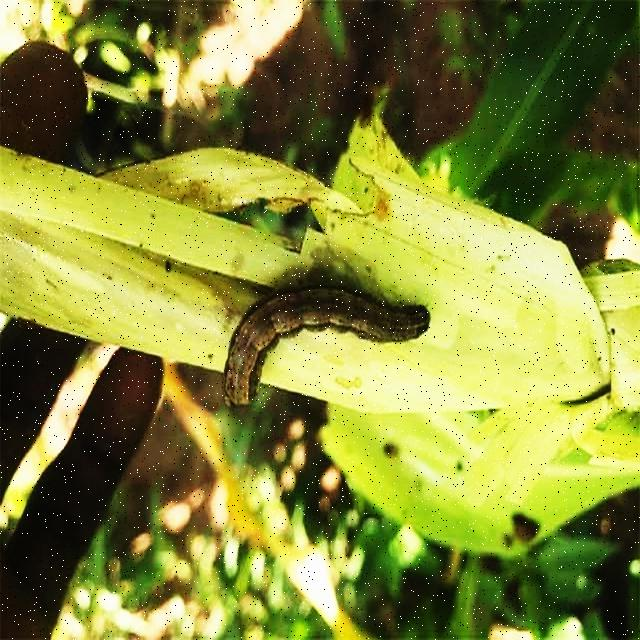worm: (224, 287, 433, 412)
